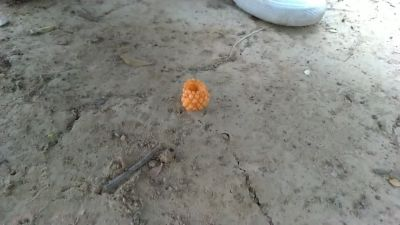eggs: (183, 76, 210, 112)
